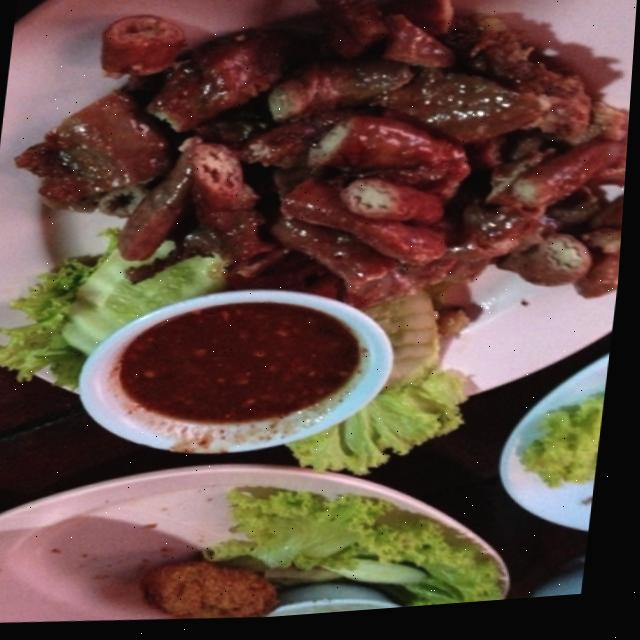猪肉菜式: (0, 0, 640, 513)
